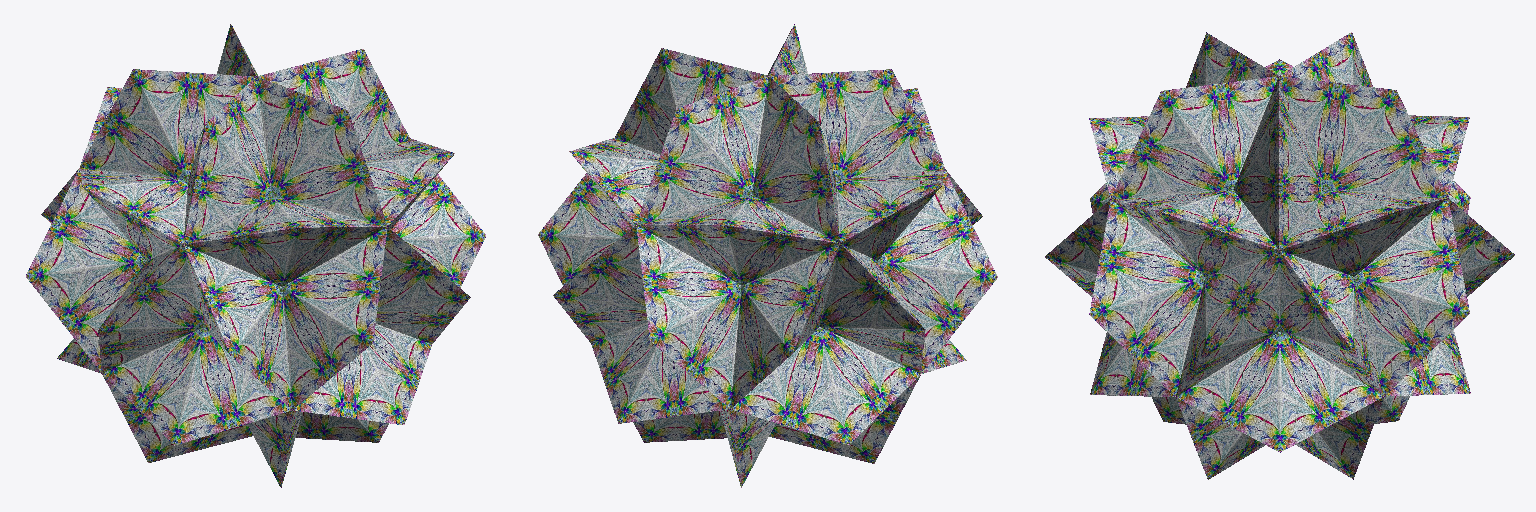
3 views of the same model, side by side, from view 1: azimuth 30°, elevation 25°; view 2: azimuth 150°, elevation 25°; view 3: azimuth 270°, elevation 25° (orthographic).
Bounding box in the file's own units: 3.62 × 3.25 × 3.8.
1 materials, 1 textured.